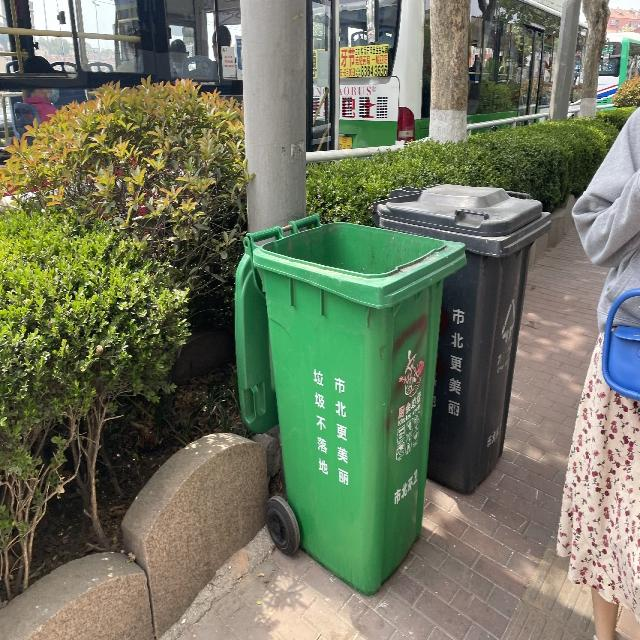garbage_bin: (232, 212, 465, 594), (370, 183, 550, 496)
